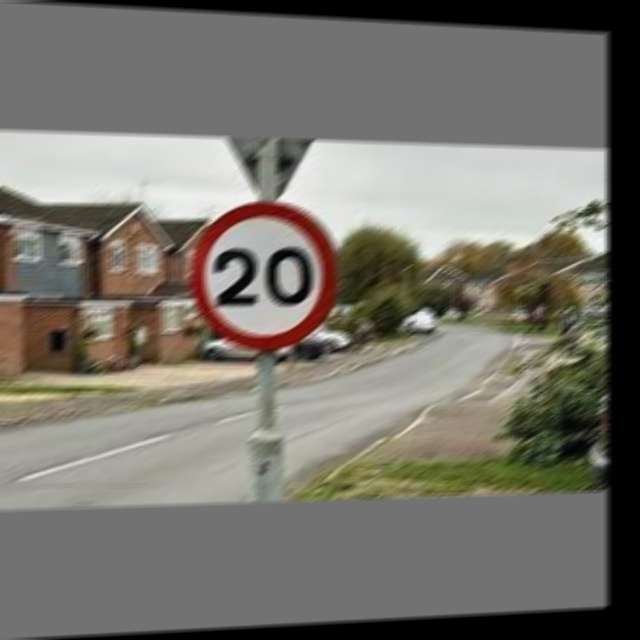Speed_Limit_20: (191, 199, 336, 348)
